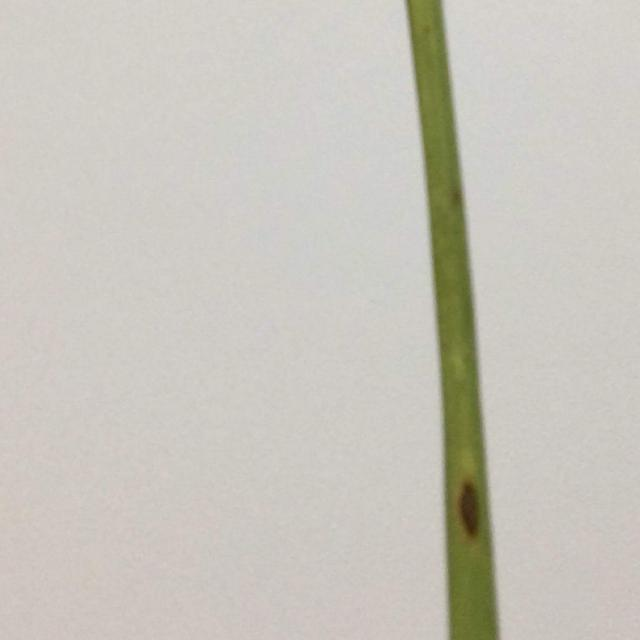Blast: (456, 486, 484, 538)
